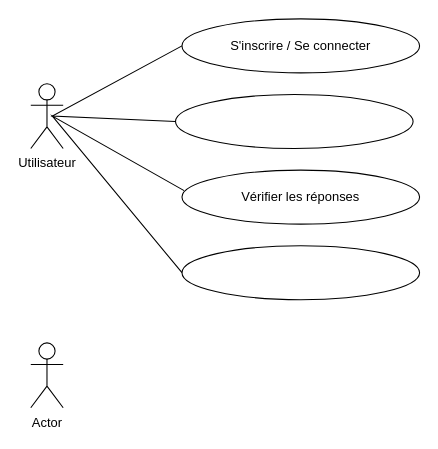
The diagram is 438 pixels wide and 449 high, and some of its shapes have lost their labels. The shapes that lost their labels are listed below. From the top down, each one's box as (x1, y1, x2, y2) in pixels, then its label:
(174, 93, 413, 148): Jouer à un mot croisé
(181, 245, 420, 300): Sauvegarder les progression
